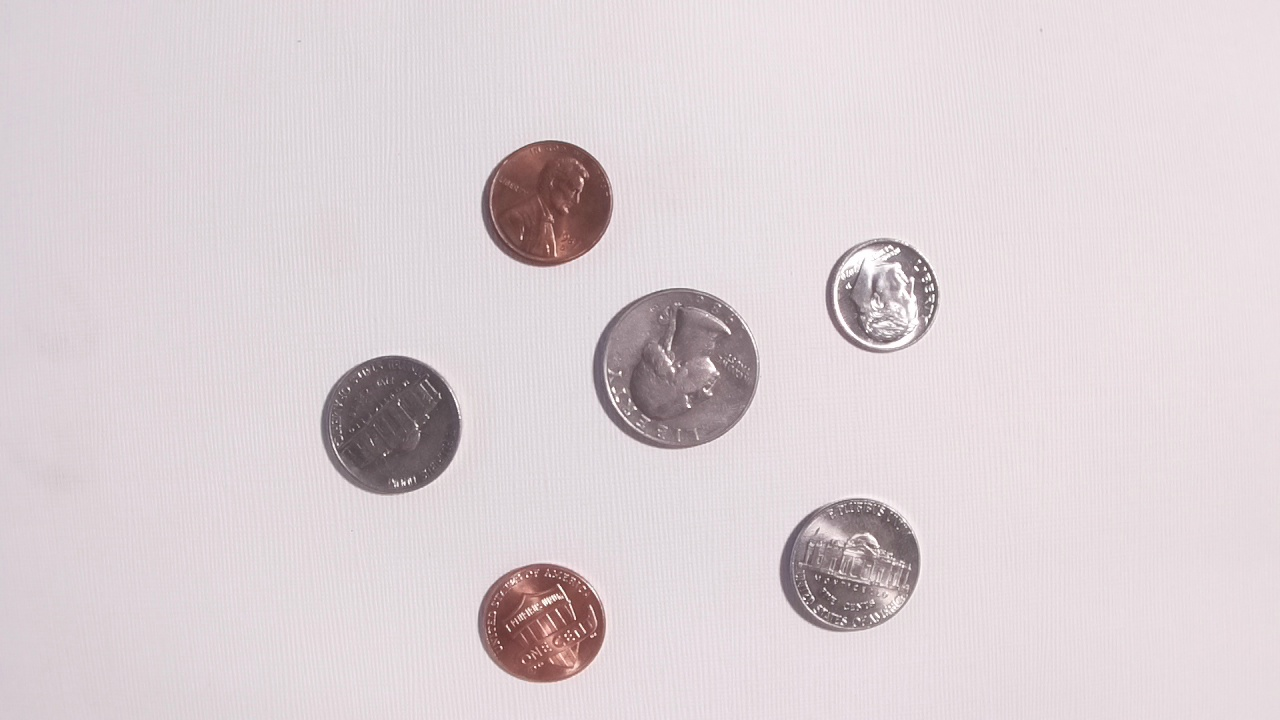dime: (821, 236, 943, 356)
nickel: (774, 492, 928, 638), (316, 352, 466, 500)
penny: (480, 136, 618, 268), (474, 558, 612, 690)
quarter: (592, 282, 760, 450)
